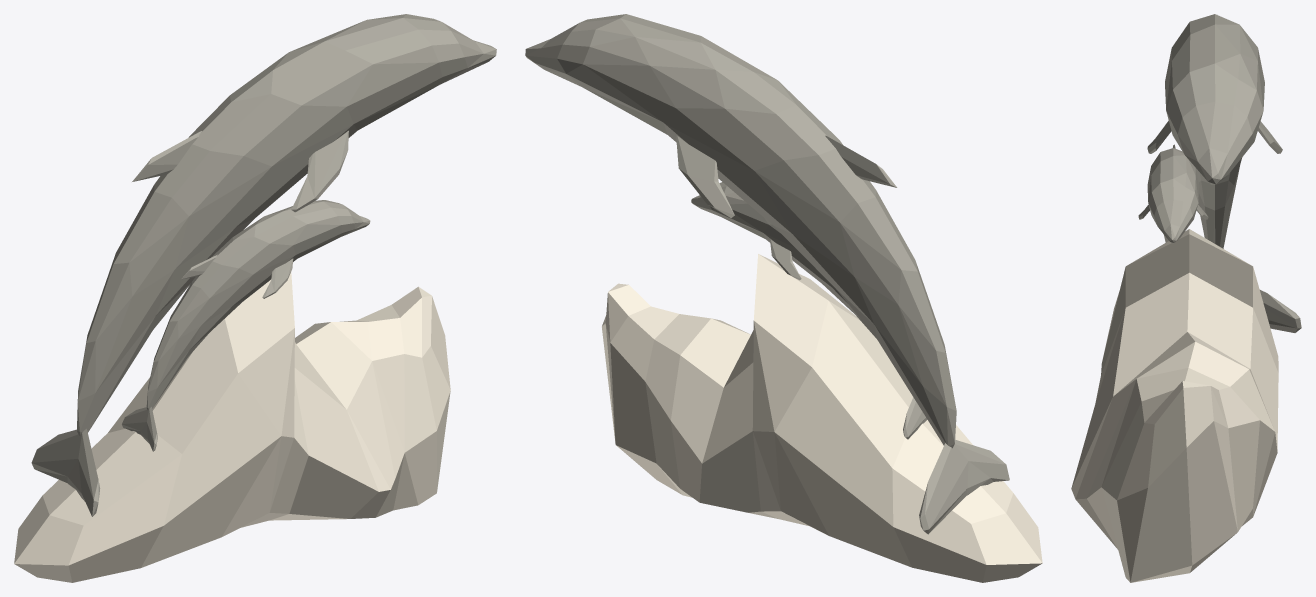
The model's file is Statue_B.fbx.
3 views of the same model, side by side, from view 1: azimuth 30°, elevation 25°; view 2: azimuth 150°, elevation 25°; view 3: azimuth 270°, elevation 25° (orthographic). The views are drawn at different scales.
Visible parts, largest first — view 1: Statue_B; view 2: Statue_B; view 3: Statue_B.
Boxes of the visible parts, box(x1,y1,x2,y2) form: Statue_B: box(14, 14, 496, 582); Statue_B: box(525, 14, 1042, 582); Statue_B: box(1071, 14, 1301, 582).
Bounding box in the file's own units: 181 × 161 × 63.12.
